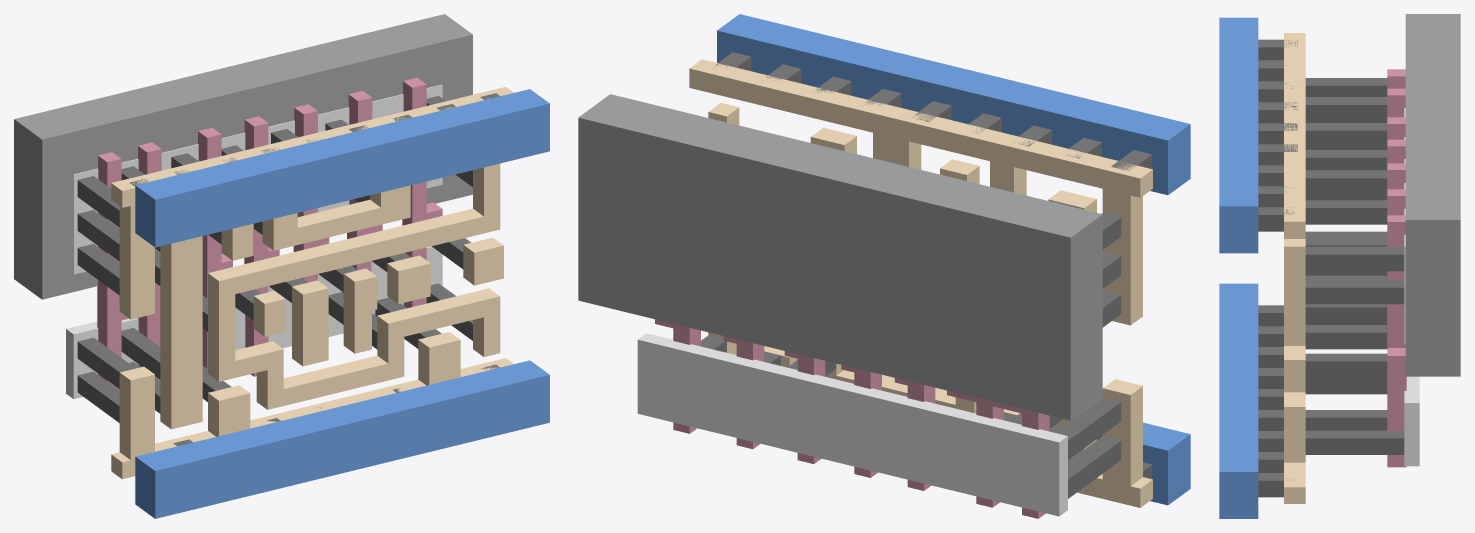
File: sky130_fd_sc_hd__a311o_2.gds.gltf
The picture shows the model from 3 angles, left to right: view 1: azimuth 30°, elevation 25°; view 2: azimuth 150°, elevation 25°; view 3: azimuth 270°, elevation 25°; orthographic projection. The views are drawn at different scales.
Visible parts, largest first — view 1: sky130_fd_sc_hd__a311o_2_li1, sky130_fd_sc_hd__a311o_2_met1, sky130_fd_sc_hd__a311o_2_nwell, sky130_fd_sc_hd__a311o_2_licon, sky130_fd_sc_hd__a311o_2_poly, sky130_fd_sc_hd__a311o_2_diff, sky130_fd_sc_hd__a311o_2_mcon; view 2: sky130_fd_sc_hd__a311o_2_nwell, sky130_fd_sc_hd__a311o_2_diff, sky130_fd_sc_hd__a311o_2_li1, sky130_fd_sc_hd__a311o_2_met1, sky130_fd_sc_hd__a311o_2_licon, sky130_fd_sc_hd__a311o_2_poly, sky130_fd_sc_hd__a311o_2_mcon; view 3: sky130_fd_sc_hd__a311o_2_licon, sky130_fd_sc_hd__a311o_2_nwell, sky130_fd_sc_hd__a311o_2_met1, sky130_fd_sc_hd__a311o_2_mcon, sky130_fd_sc_hd__a311o_2_li1, sky130_fd_sc_hd__a311o_2_poly, sky130_fd_sc_hd__a311o_2_diff.
Part boxes in pixels (x1,y1,x2,y2): sky130_fd_sc_hd__a311o_2_li1: (111,86,513,479); sky130_fd_sc_hd__a311o_2_met1: (135,89,549,518); sky130_fd_sc_hd__a311o_2_nwell: (14,14,472,299); sky130_fd_sc_hd__a311o_2_licon: (77,96,472,422); sky130_fd_sc_hd__a311o_2_poly: (97,77,442,389); sky130_fd_sc_hd__a311o_2_diff: (66,84,442,399); sky130_fd_sc_hd__a311o_2_mcon: (129,93,499,446); sky130_fd_sc_hd__a311o_2_nwell: (578,94,1102,420); sky130_fd_sc_hd__a311o_2_diff: (637,333,1067,516); sky130_fd_sc_hd__a311o_2_li1: (689,59,1152,507); sky130_fd_sc_hd__a311o_2_met1: (717,14,1190,505); sky130_fd_sc_hd__a311o_2_licon: (701,159,1121,498); sky130_fd_sc_hd__a311o_2_poly: (655,319,1049,518); sky130_fd_sc_hd__a311o_2_mcon: (715,52,1152,478); sky130_fd_sc_hd__a311o_2_licon: (1305,78,1404,454); sky130_fd_sc_hd__a311o_2_nwell: (1405,14,1460,376); sky130_fd_sc_hd__a311o_2_met1: (1219,17,1258,518); sky130_fd_sc_hd__a311o_2_mcon: (1258,39,1297,497); sky130_fd_sc_hd__a311o_2_li1: (1284,33,1305,503); sky130_fd_sc_hd__a311o_2_poly: (1387,69,1406,467); sky130_fd_sc_hd__a311o_2_diff: (1404,108,1419,466).
Size of the model in its own units: 4.52 by 3.2 by 2.24.
